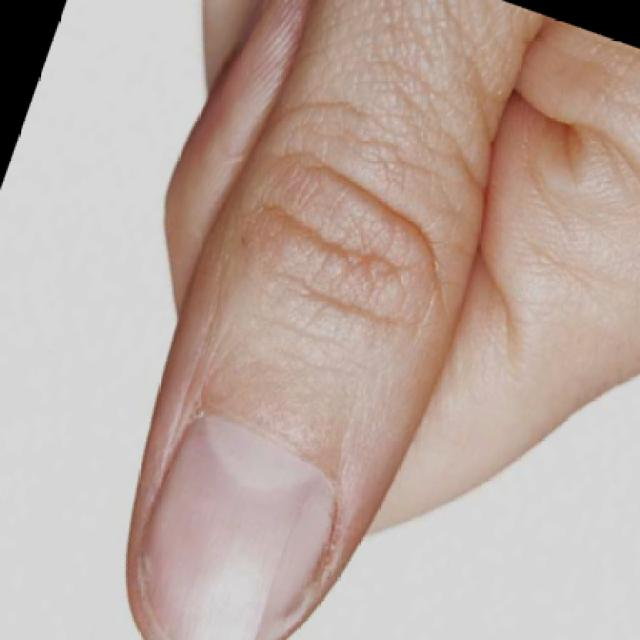Nail: (138, 410, 341, 639)
